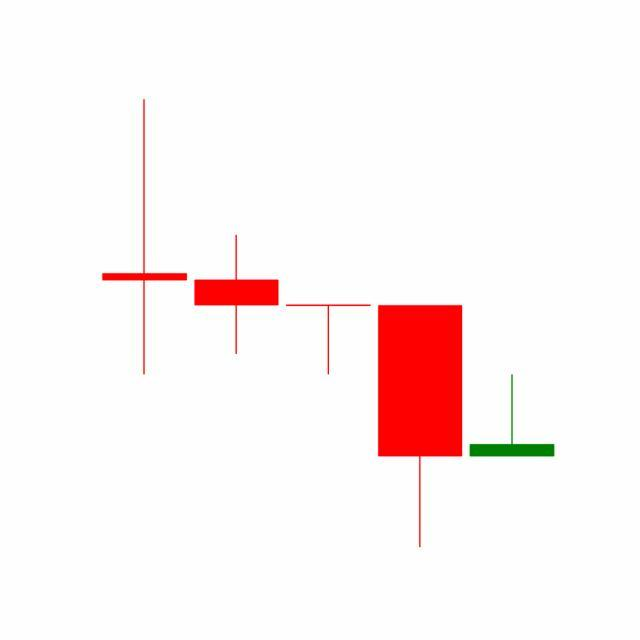Gravestone Doji: (466, 374, 559, 458)
